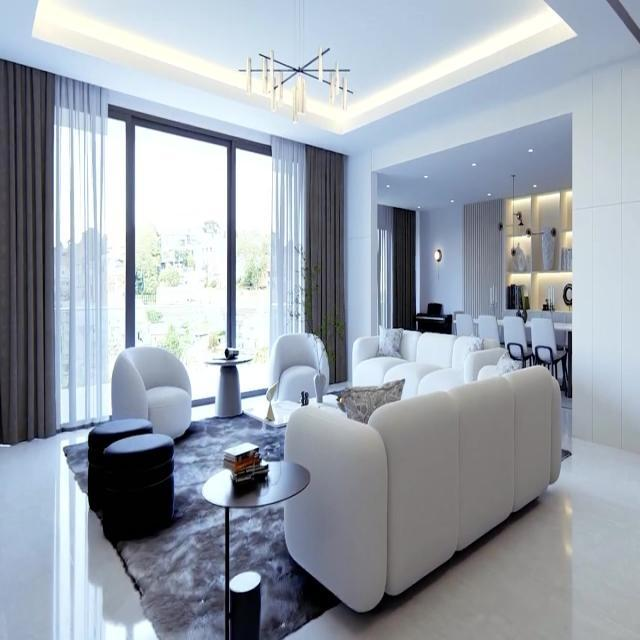obstacle: (283, 361, 562, 614), (202, 458, 310, 638), (351, 328, 508, 399), (111, 343, 192, 438), (270, 335, 329, 405), (203, 354, 253, 418)
